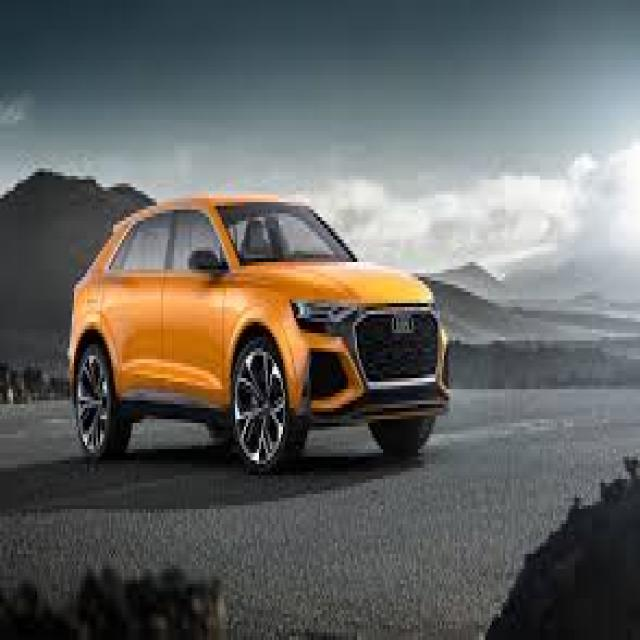SUV: (66, 186, 454, 472)
